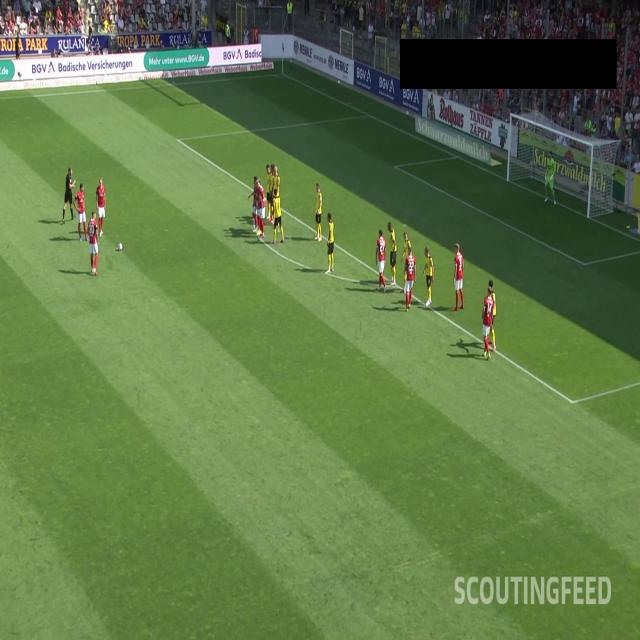ball: (116, 238, 124, 256)
player: (448, 241, 467, 312), (481, 286, 496, 362), (73, 182, 90, 245), (484, 278, 498, 354), (384, 217, 398, 285), (246, 170, 260, 237), (542, 149, 558, 207), (272, 181, 286, 245), (87, 207, 99, 275), (94, 176, 107, 238), (376, 228, 388, 294), (405, 248, 417, 312), (422, 245, 434, 308), (402, 230, 412, 294), (313, 180, 323, 243), (257, 176, 266, 242), (264, 156, 272, 224), (274, 162, 282, 230), (326, 212, 334, 275), (270, 159, 275, 228), (256, 177, 261, 240)
referee: (61, 165, 76, 227)
